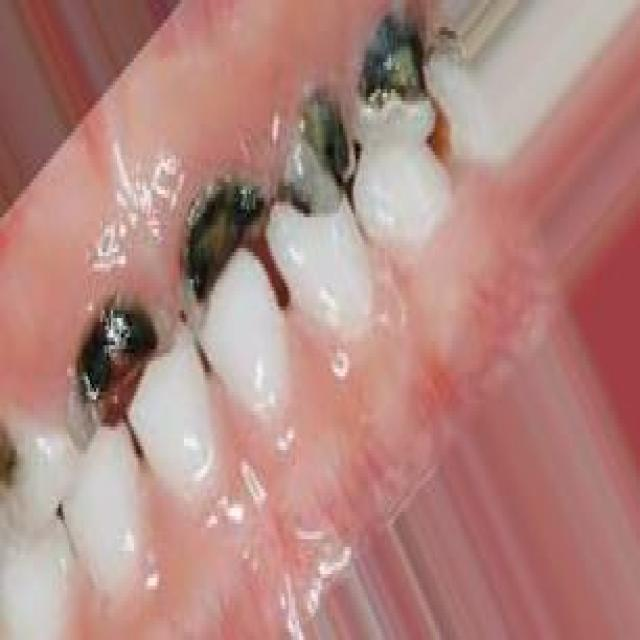caries: (60, 292, 170, 463), (164, 159, 261, 323), (272, 78, 365, 233), (350, 2, 442, 148), (0, 403, 42, 512)
